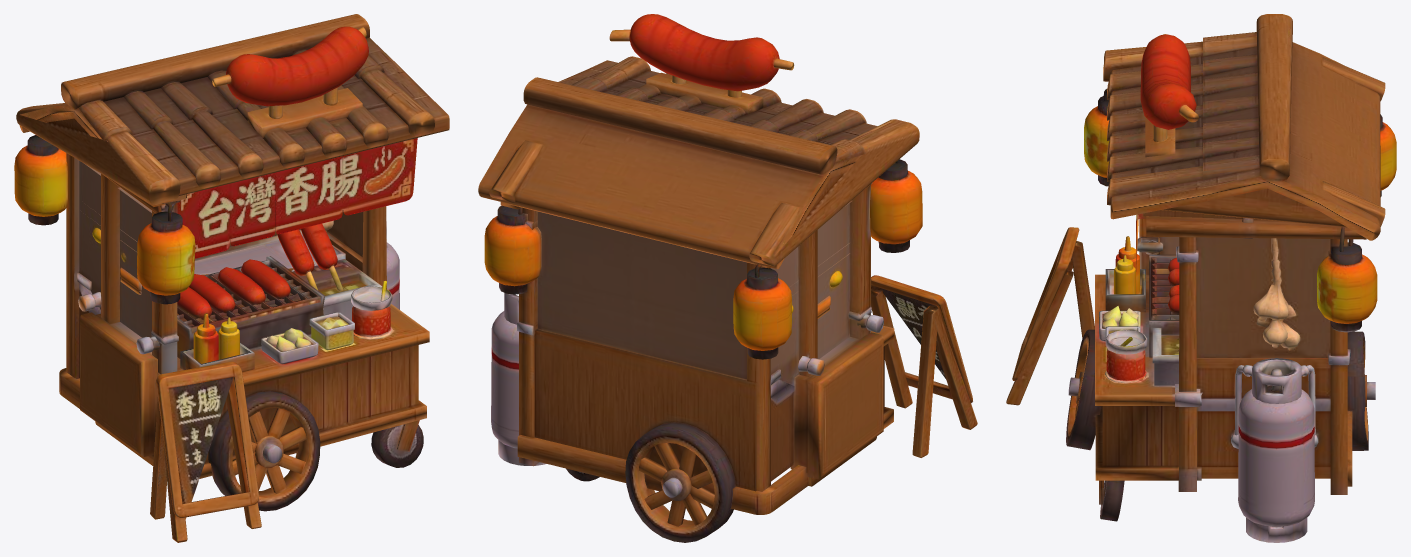
File: stall-sausage.glb
3 renders of one model, left to right at view 1: azimuth 30°, elevation 25°; view 2: azimuth 150°, elevation 25°; view 3: azimuth 270°, elevation 25°, orthographic.
Visible parts, largest first — view 1: tripo_node_abcf8b99-9acb-45ab-a69b-eb0297e276d3; view 2: tripo_node_abcf8b99-9acb-45ab-a69b-eb0297e276d3; view 3: tripo_node_abcf8b99-9acb-45ab-a69b-eb0297e276d3.
Part boxes in pixels (<box>): tripo_node_abcf8b99-9acb-45ab-a69b-eb0297e276d3: <box>14,14,449,542</box>; tripo_node_abcf8b99-9acb-45ab-a69b-eb0297e276d3: <box>478,14,977,542</box>; tripo_node_abcf8b99-9acb-45ab-a69b-eb0297e276d3: <box>1006,14,1396,542</box>.
Size of the model in its own units: 0.8618 by 0.9995 by 0.8355.
Materials: 1 (1 with a texture image).
